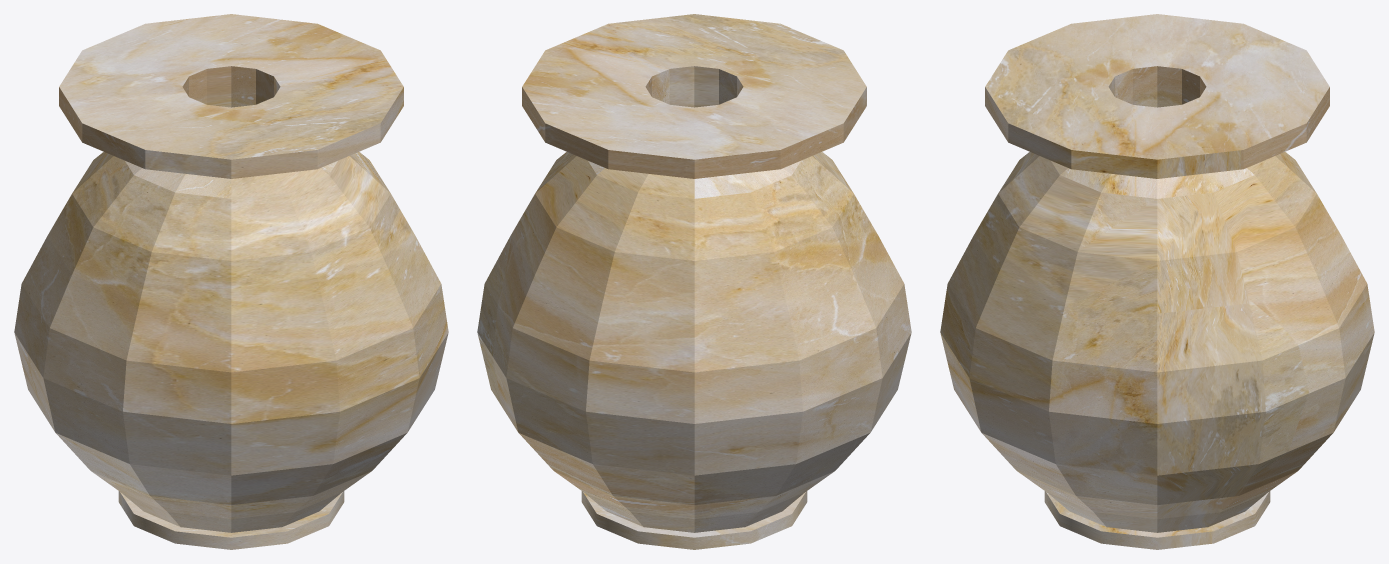
File: kohl_pot.FBX
3 views of the same model, side by side, from view 1: azimuth 30°, elevation 25°; view 2: azimuth 150°, elevation 25°; view 3: azimuth 270°, elevation 25° (orthographic).
Visible parts, largest first — view 1: Cylinder001; view 2: Cylinder001; view 3: Cylinder001.
Boxes of the visible parts, box(x1,y1,x2,y2) form: Cylinder001: box(14, 14, 448, 549); Cylinder001: box(477, 14, 911, 549); Cylinder001: box(940, 14, 1374, 549).
Size of the model in its own units: 92.99 by 98.14 by 92.99.
1 material, 1 textured.
